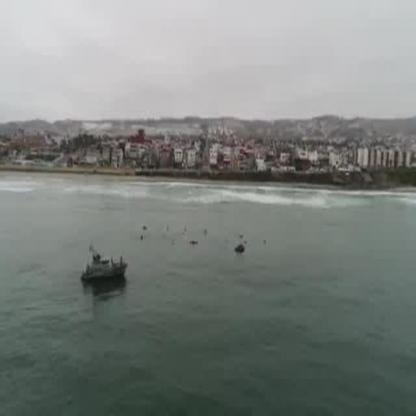Boat: (80, 244, 127, 290)
